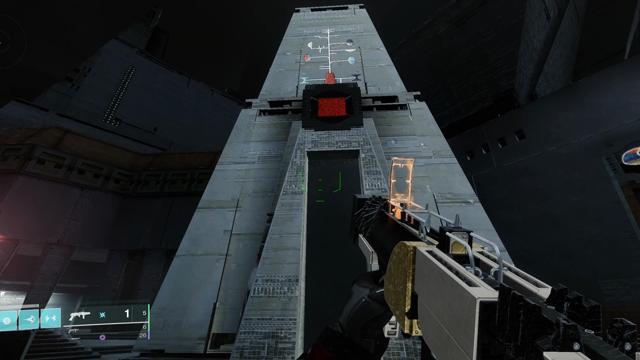brain: (612, 140, 640, 175)
stop: (310, 90, 354, 124)
